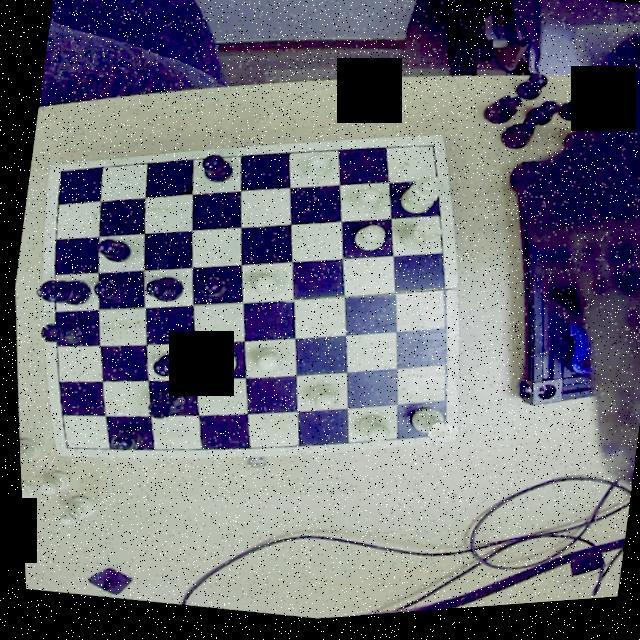chess-table-corners: (419, 422, 452, 452), (414, 140, 445, 170), (43, 160, 77, 186), (46, 431, 74, 458)
